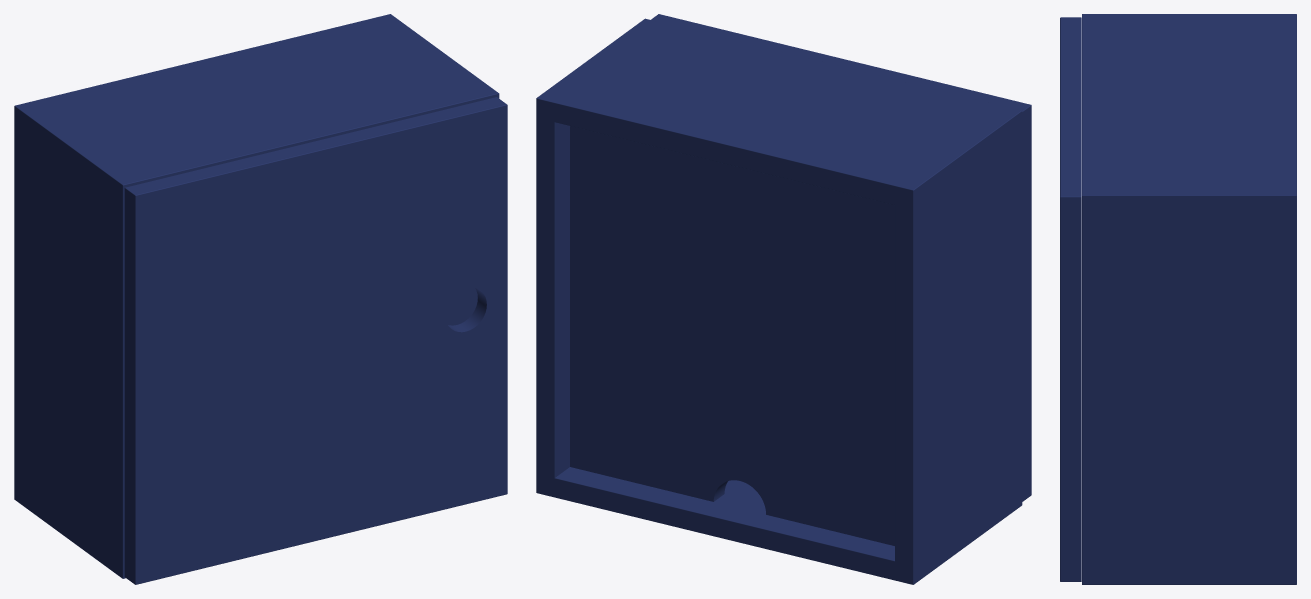
The model's file is MODH_1X1_D_B_DER_AP_AF.glb.
3 renders of one model, left to right at view 1: azimuth 30°, elevation 25°; view 2: azimuth 150°, elevation 25°; view 3: azimuth 270°, elevation 25°, orthographic.
Size of the model in its own units: 360 by 360 by 198.
